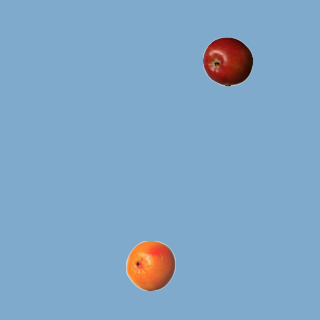Apple Braeburn: (202, 36, 252, 86)
Grapefruit Pink: (125, 240, 175, 290)
